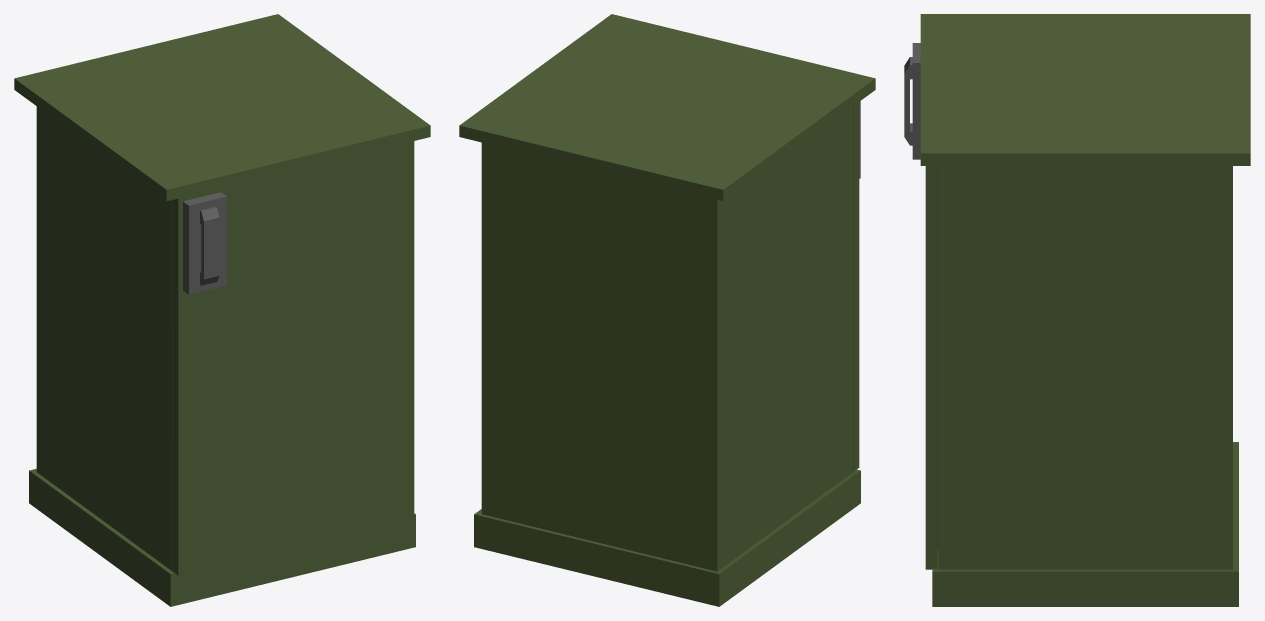
The model's file is freezersmall_01_B.gltf.
3 renders of one model, left to right at view 1: azimuth 30°, elevation 25°; view 2: azimuth 150°, elevation 25°; view 3: azimuth 270°, elevation 25°, orthographic. The views are drawn at different scales.
Visible parts, largest first — view 1: freezersmall_01_B, Doorfreezersmall_01_B; view 2: freezersmall_01_B, Doorfreezersmall_01_B; view 3: freezersmall_01_B, Doorfreezersmall_01_B.
Part boxes in pixels (<box>): freezersmall_01_B: <box>14,14,430,606</box>; Doorfreezersmall_01_B: <box>173,141,414,575</box>; freezersmall_01_B: <box>459,14,875,606</box>; Doorfreezersmall_01_B: <box>853,101,860,471</box>; freezersmall_01_B: <box>920,14,1250,606</box>; Doorfreezersmall_01_B: <box>904,43,938,569</box>.
Bounding box in the file's own units: 0.6717 × 1.03 × 0.7049.
Materials: 1 (1 with a texture image).
